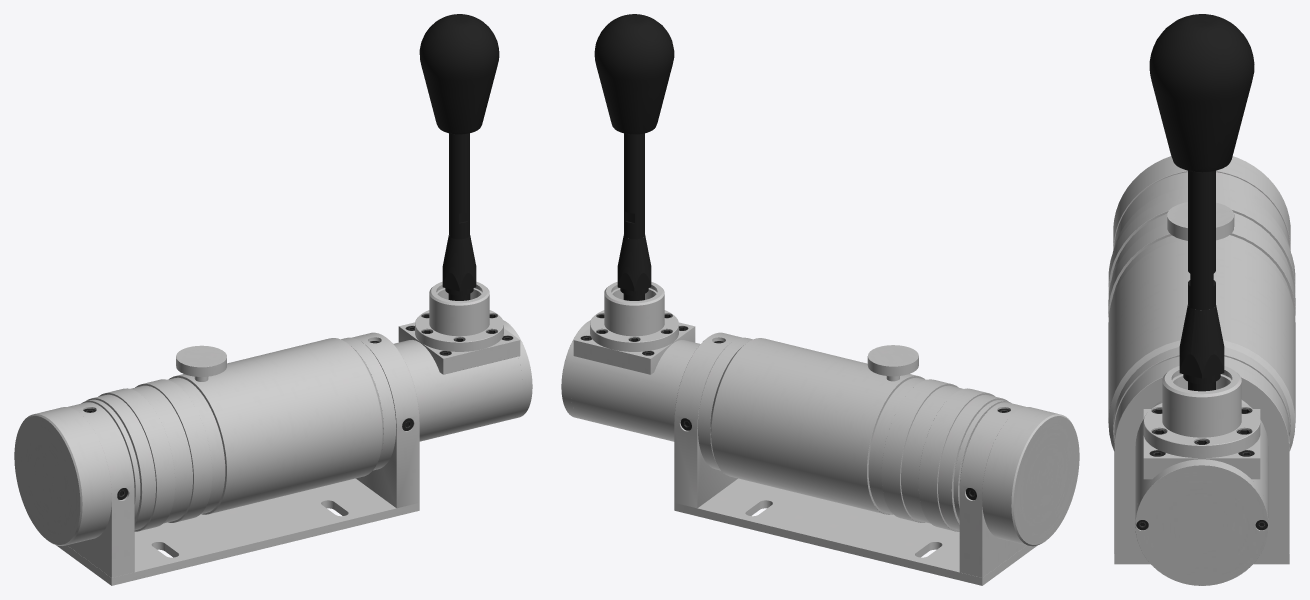
File: h1sq-shiny.glb
3 views of the same model, side by side, from view 1: azimuth 30°, elevation 25°; view 2: azimuth 150°, elevation 25°; view 3: azimuth 270°, elevation 25° (orthographic). The views are drawn at different scales.
Visible parts, largest first — view 1: standardMaterial, anisotropyClamps, anisotropyEnds, anisotropyScrew; view 2: standardMaterial, anisotropyClamps, anisotropyEnds, anisotropyScrew; view 3: standardMaterial, anisotropyClamps, anisotropyEnds, anisotropyScrew.
Boxes of the visible parts, x1,y1,x2,y2 form: standardMaterial: (21, 14, 532, 585); anisotropyClamps: (14, 416, 80, 544); anisotropyEnds: (67, 342, 396, 577); anisotropyScrew: (176, 345, 226, 367); standardMaterial: (561, 14, 1073, 585); anisotropyClamps: (1013, 416, 1079, 544); anisotropyEnds: (697, 342, 1040, 577); anisotropyScrew: (868, 345, 918, 366); standardMaterial: (1108, 14, 1295, 585); anisotropyClamps: (1135, 465, 1268, 585); anisotropyEnds: (1114, 377, 1288, 553); anisotropyScrew: (1167, 202, 1233, 227).
Bounding box in the file's own units: 3.68 × 3.43 × 0.9868.
1 material, 1 textured.
